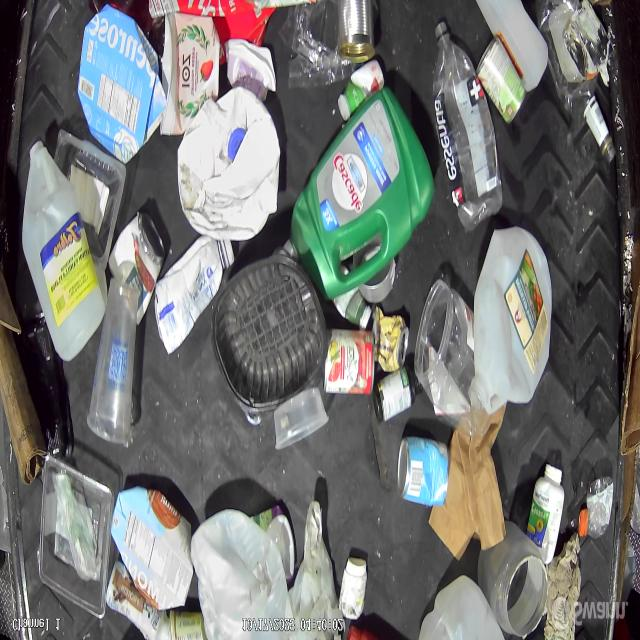can: (109, 210, 167, 300), (476, 35, 527, 125), (396, 437, 449, 508), (325, 327, 377, 397), (338, 0, 374, 58), (376, 313, 410, 374)
milk_jug: (21, 140, 110, 364), (180, 89, 282, 243), (471, 228, 555, 410), (191, 509, 290, 638)
non_white_jug: (292, 82, 432, 306), (78, 4, 161, 168), (112, 483, 196, 609)
plastic_bottle: (432, 23, 500, 230), (542, 0, 616, 164), (580, 472, 616, 541)
